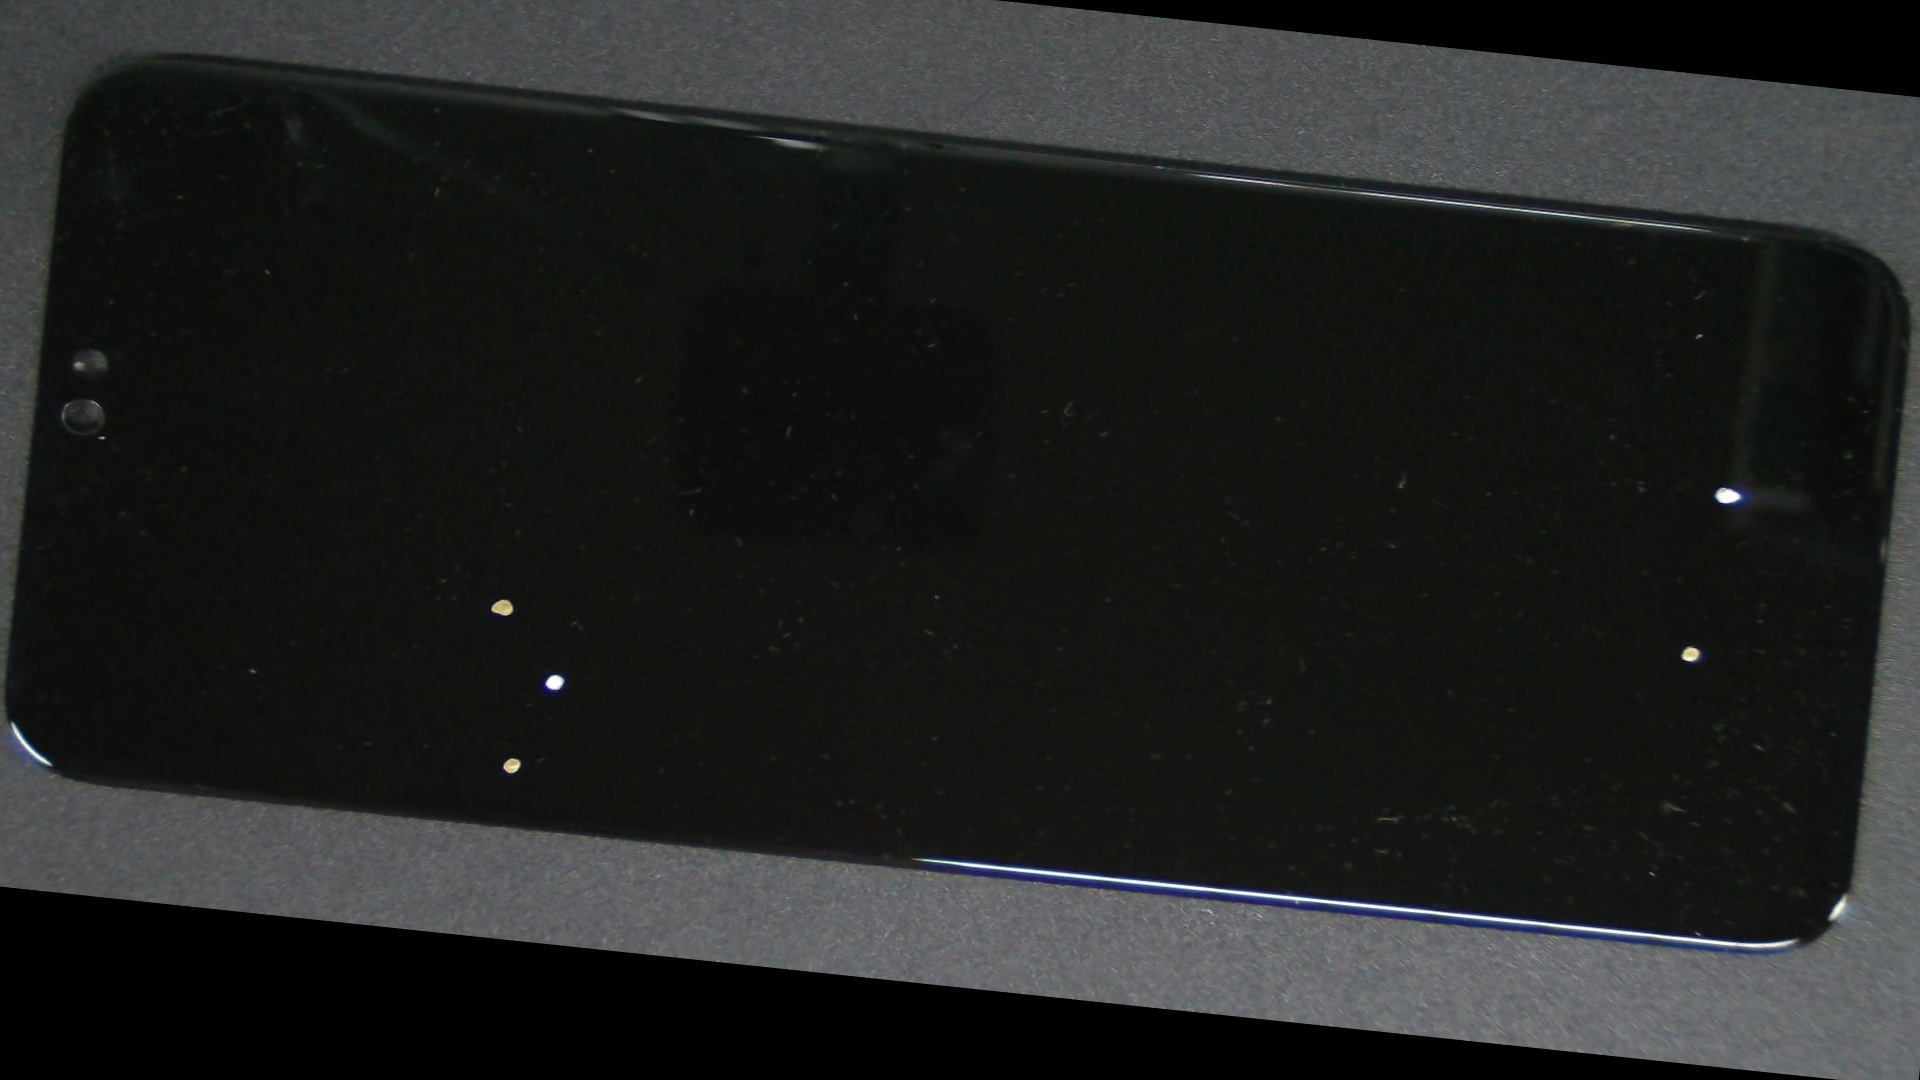oil: (760, 266, 1920, 957), (793, 187, 1920, 716), (186, 280, 928, 977), (158, 244, 849, 952), (169, 323, 876, 972)
